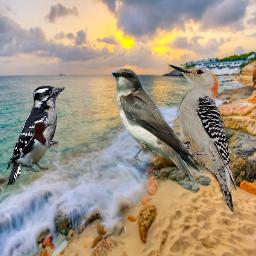Swallow: (111, 68, 216, 183)
Woodpecker: (167, 57, 243, 222), (6, 84, 66, 186), (7, 122, 53, 172)
